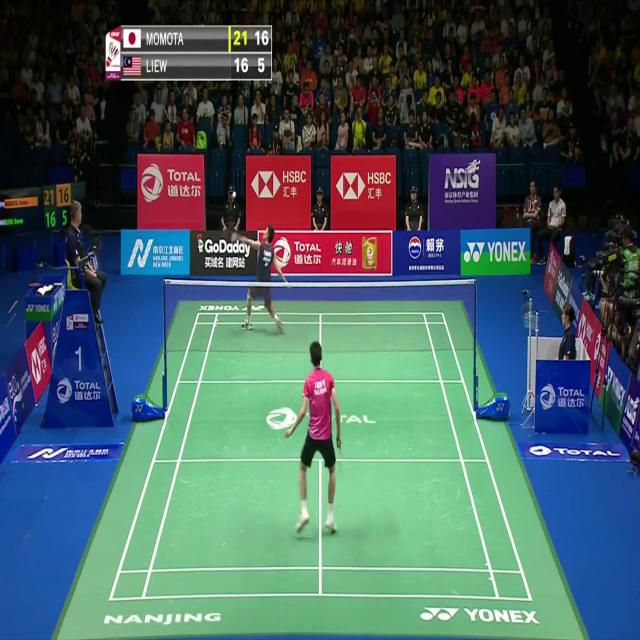Shuttlecock: (231, 188, 237, 200)
